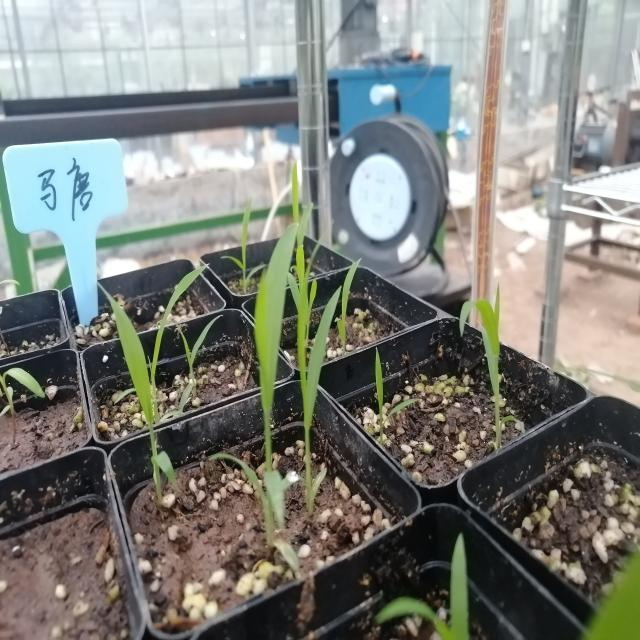crabgrass: (222, 198, 351, 502), (102, 273, 210, 501)
